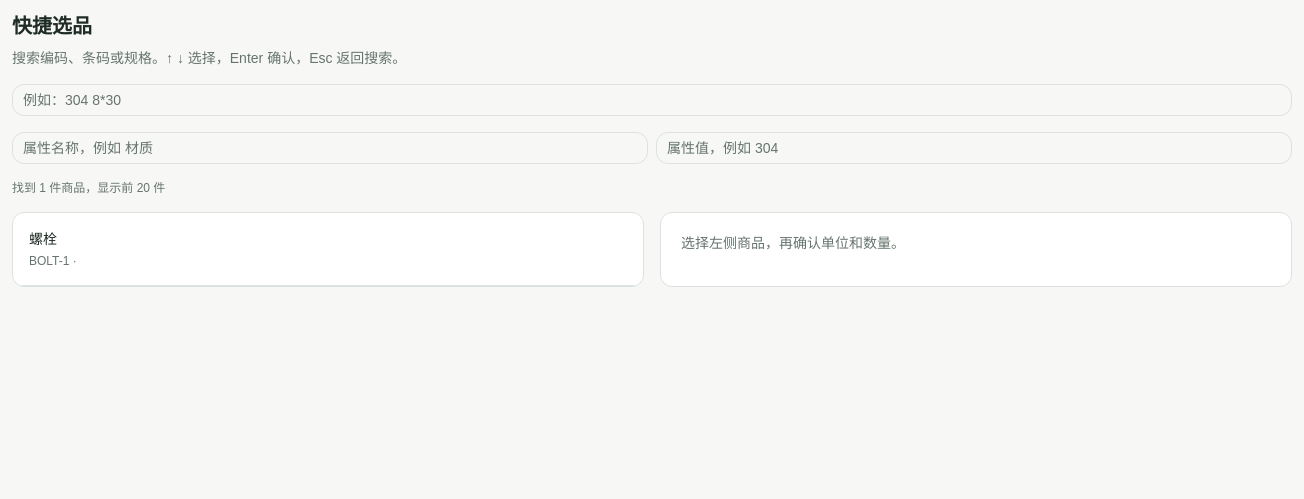
ignores a conversion arriving after unmount changed
The image size is (1304, 499).
Click the button "螺栓 BOLT-1 ·".
click(49, 261)  # box [13, 213, 643, 286]
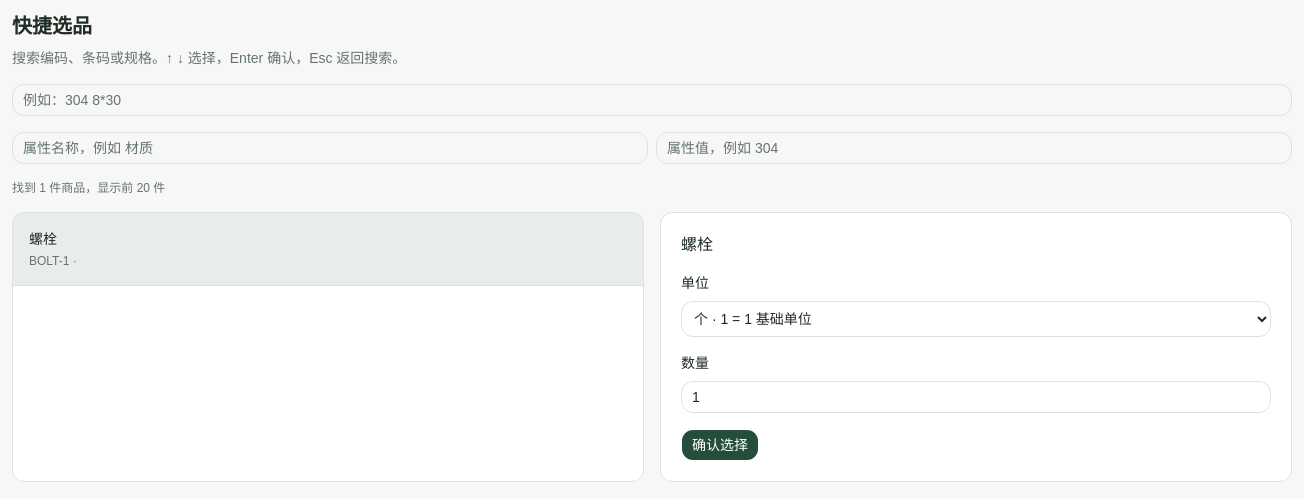
Press Enter in the field named "选品数量", box [681, 381, 1271, 413]
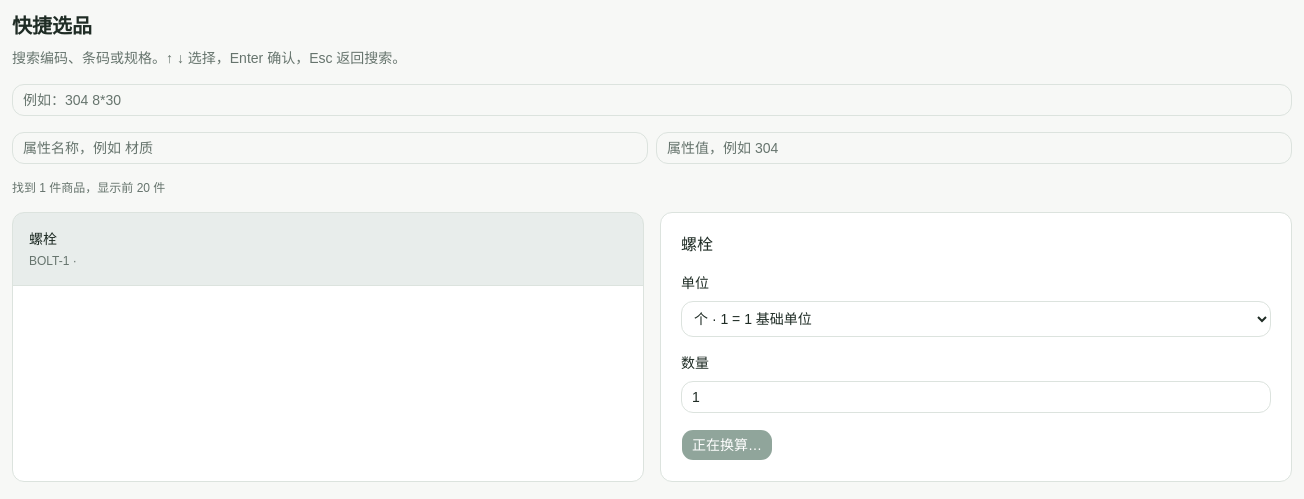
Expected: the button "正在换算…" is disabled, [681, 429, 773, 461]
